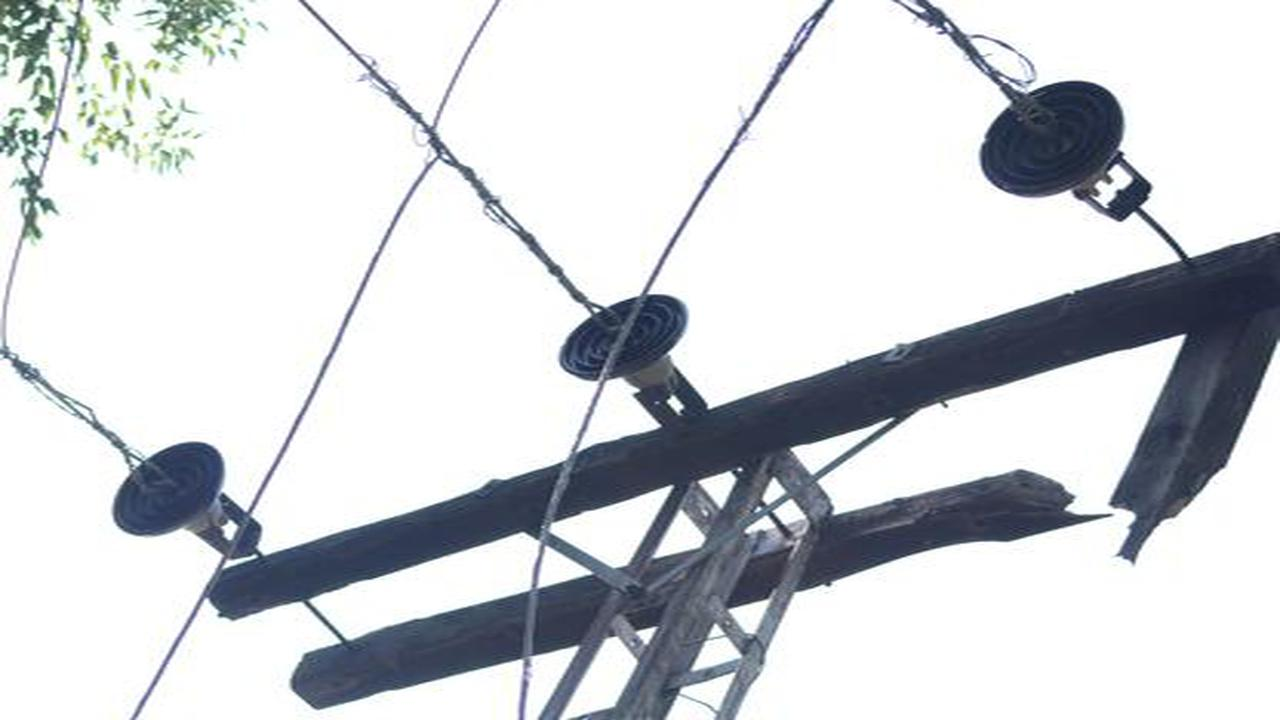insulator_disc: (974, 77, 1141, 204), (546, 289, 703, 383), (101, 433, 236, 538)
